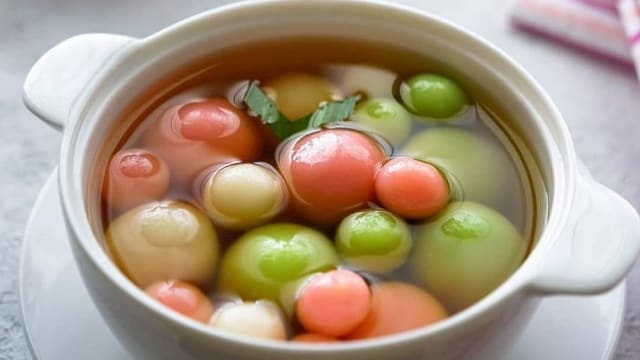ronde: (84, 41, 546, 339)
